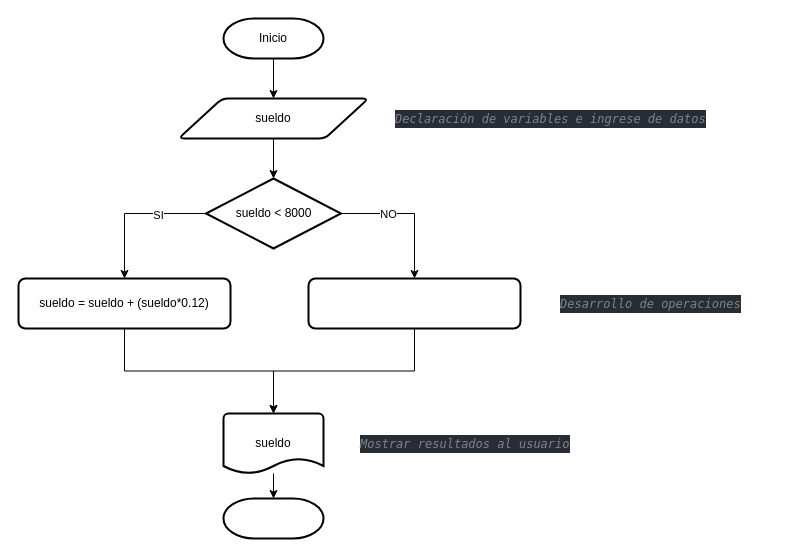
This 785x556 diagram has some shape labels left out. The shapes that lost their labels are listed below. From the top down, each one's box as (x1, y1, x2, y2) in pixels, then its label:
(307, 277, 521, 329): sueldo = sueldo + (sueldo*0.08)
(222, 497, 324, 539): Fin
